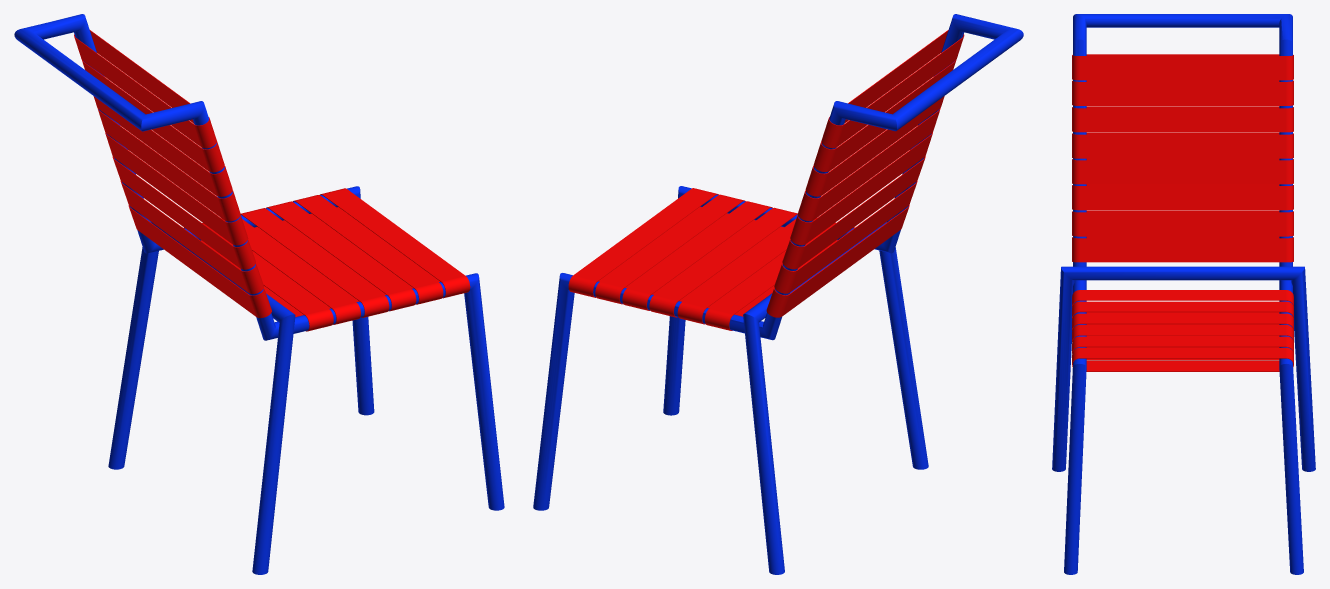
File: Chair.FBX
3 views of the same model, side by side, from view 1: azimuth 30°, elevation 25°; view 2: azimuth 150°, elevation 25°; view 3: azimuth 270°, elevation 25° (orthographic). The views are drawn at different scales.
Parts seen in each view (by area): view 1: Shape001; view 2: Shape001; view 3: Shape001.
Boxes of the visible parts, box(x1,y1,x2,y2) form: Shape001: box(14, 14, 504, 574); Shape001: box(533, 14, 1023, 574); Shape001: box(1052, 14, 1315, 574).
Size of the model in its own units: 2.88 by 3.6 by 2.1.
